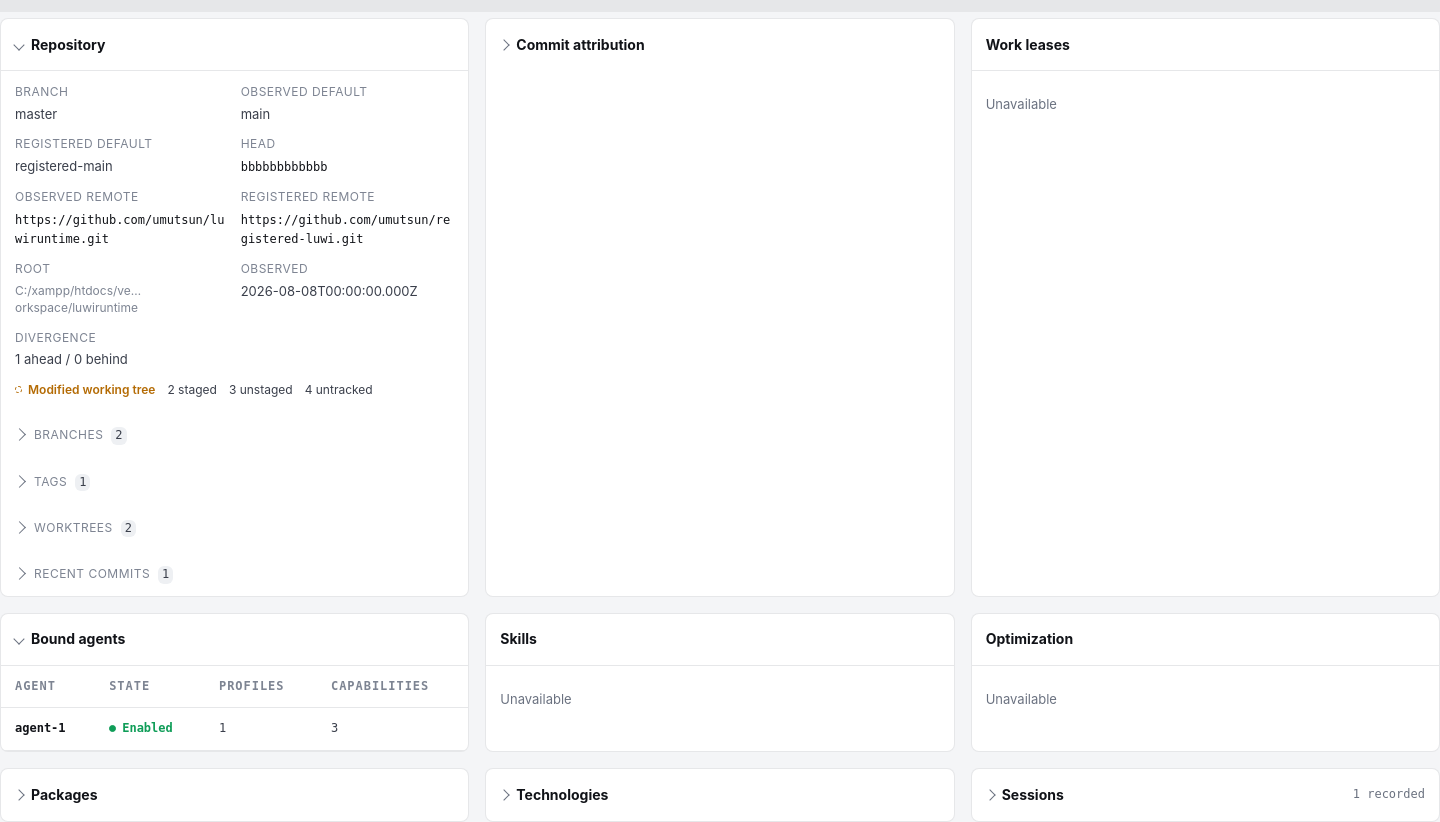
Test: ProjectsView detail › labels every confidence tier as text, including unknown
The image size is (1440, 822).
Step 1. Click the button "Technologies" → [562, 794], box [500,784,940,805]
(page scrolled)
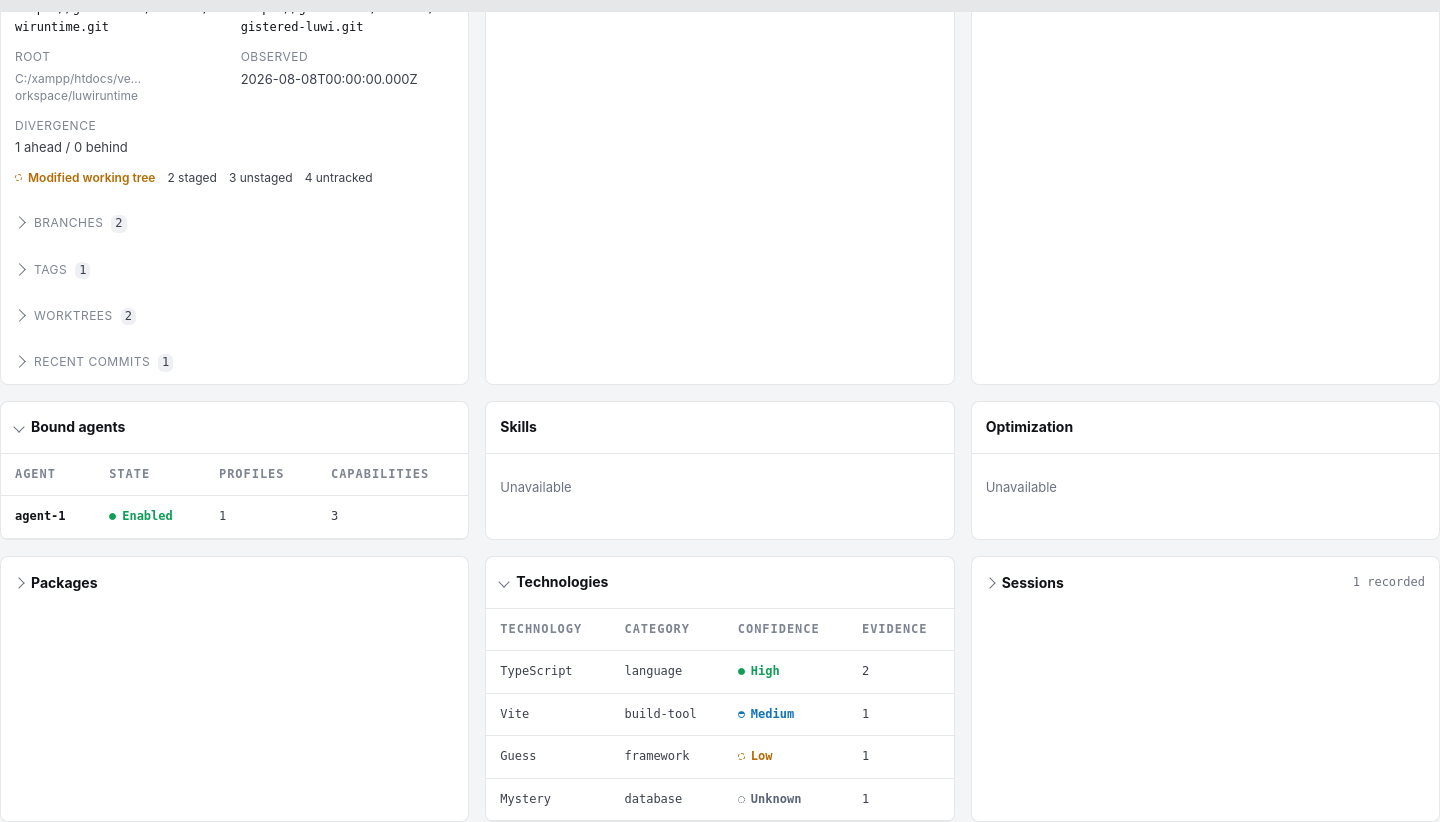
Now the text "High" is shown, box [738,663,780,680]
Now the text "Medium" is shown, box [738,706,794,723]
Now the text "Low" is shown, box [738,748,772,766]
